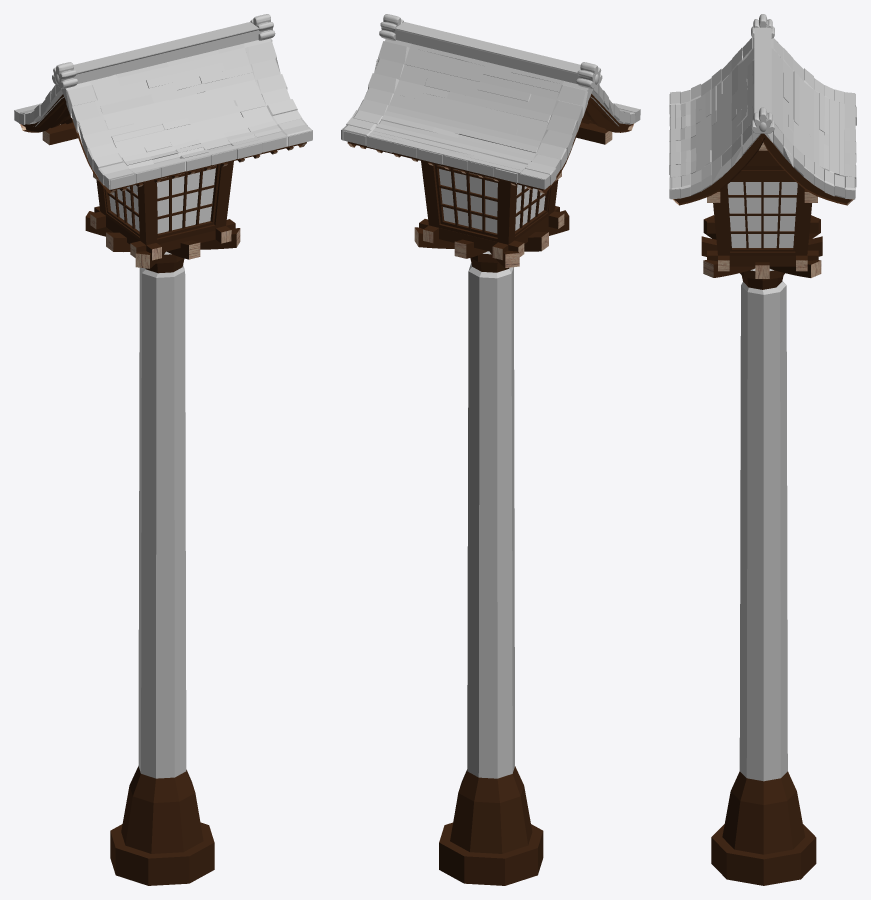
File: Latern.fbx
The picture shows the model from 3 angles, left to right: view 1: azimuth 30°, elevation 25°; view 2: azimuth 150°, elevation 25°; view 3: azimuth 270°, elevation 25°; orthographic projection. The views are drawn at different scales.
Visible parts, largest first — view 1: Cylinder, Cube.037, Cube, Cube.064, Cube.027, Cube.024; view 2: Cylinder, Cube.037, Cube, Cube.064, Cube.027, Cube.018, Cube.065; view 3: Cylinder, Cube.037, Cube, Cube.027, Cube.065, Cube.064, Cube.009, Cube.029, Plane.001.
Boxes of the visible parts, x1,y1,x2,y2 form: Cylinder: [110, 251, 214, 885]; Cube.037: [14, 38, 312, 190]; Cube: [96, 161, 233, 245]; Cube.064: [73, 22, 261, 83]; Cube.027: [85, 206, 240, 268]; Cube.024: [157, 165, 216, 231]; Cylinder: [439, 251, 543, 885]; Cube.037: [341, 39, 640, 190]; Cube: [421, 161, 558, 244]; Cube.064: [393, 22, 580, 83]; Cube.027: [414, 206, 569, 267]; Cube.018: [437, 165, 497, 234]; Cube.065: [347, 100, 634, 193]; Cylinder: [711, 268, 816, 885]; Cube.037: [669, 37, 856, 200]; Cube: [713, 150, 811, 255]; Cube.027: [701, 215, 822, 278]; Cube.065: [673, 136, 853, 205]; Cube.064: [754, 27, 771, 113]; Cube.009: [728, 182, 796, 248]; Cube.029: [707, 170, 817, 202]; Plane.001: [751, 107, 774, 133].
Size of the model in its own units: 260 by 955 by 203.
